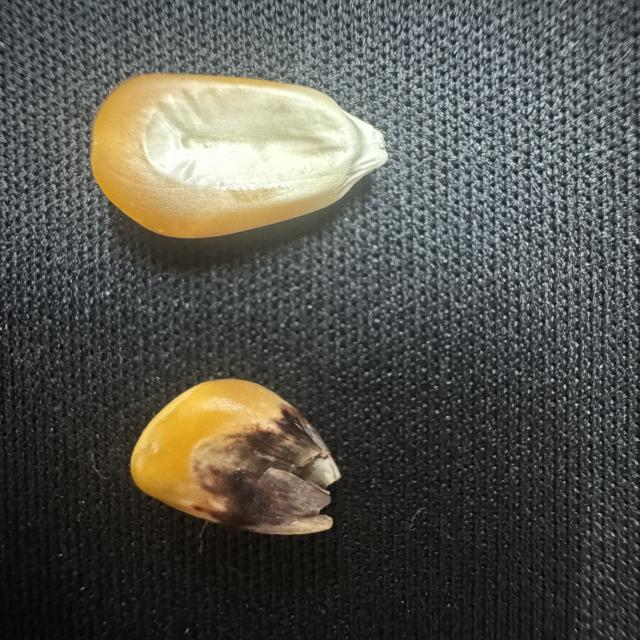Bad-Seed: (134, 377, 353, 548)
Good-Seed: (70, 67, 398, 248)
